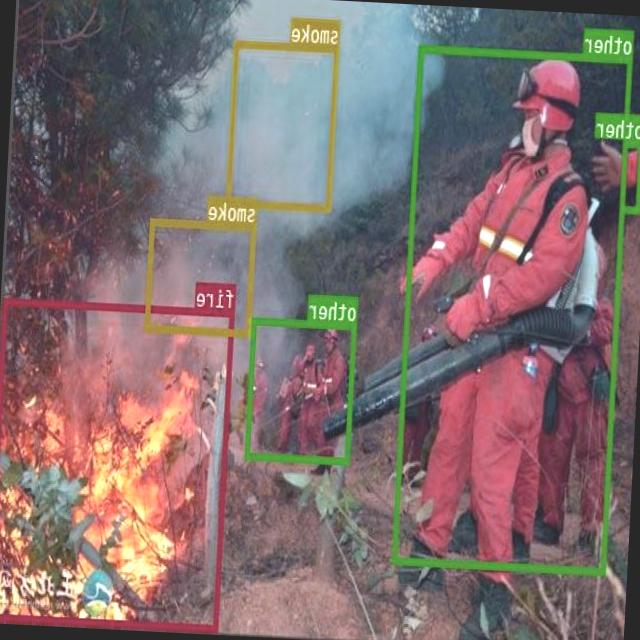fire: (0, 297, 235, 630)
smoke: (227, 40, 341, 211), (145, 218, 257, 335)
